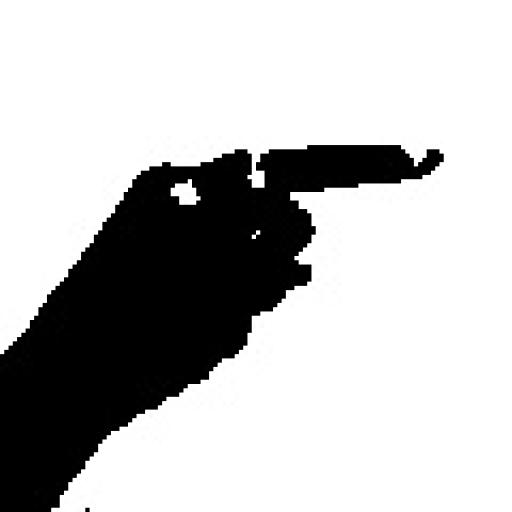index_right: (0, 142, 445, 360)
